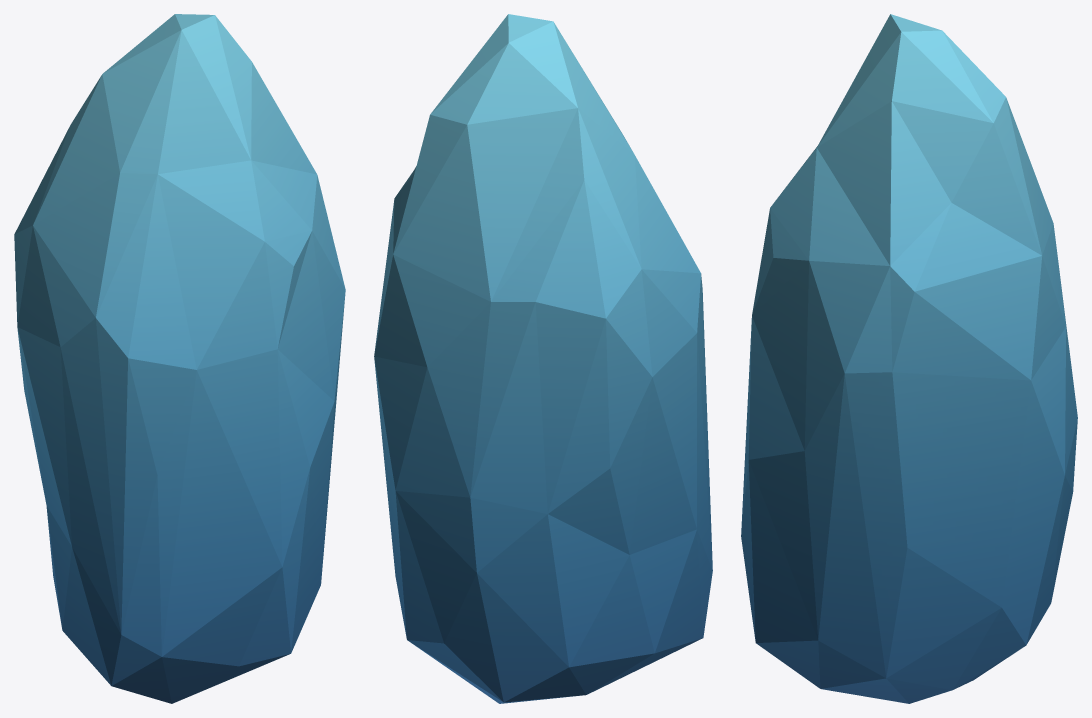
The model's file is Crystal_04.fbx.
3 views of the same model, side by side, from view 1: azimuth 30°, elevation 25°; view 2: azimuth 150°, elevation 25°; view 3: azimuth 270°, elevation 25° (orthographic). The views are drawn at different scales.
Parts seen in each view (by area): view 1: Crystal_04; view 2: Crystal_04; view 3: Crystal_04.
Boxes of the visible parts, x1=… form: Crystal_04: x1=14, y1=14, x2=345, y2=703; Crystal_04: x1=374, y1=14, x2=712, y2=703; Crystal_04: x1=741, y1=14, x2=1077, y2=703.
Bounding box in the file's own units: 1.21 × 2.67 × 1.23.
